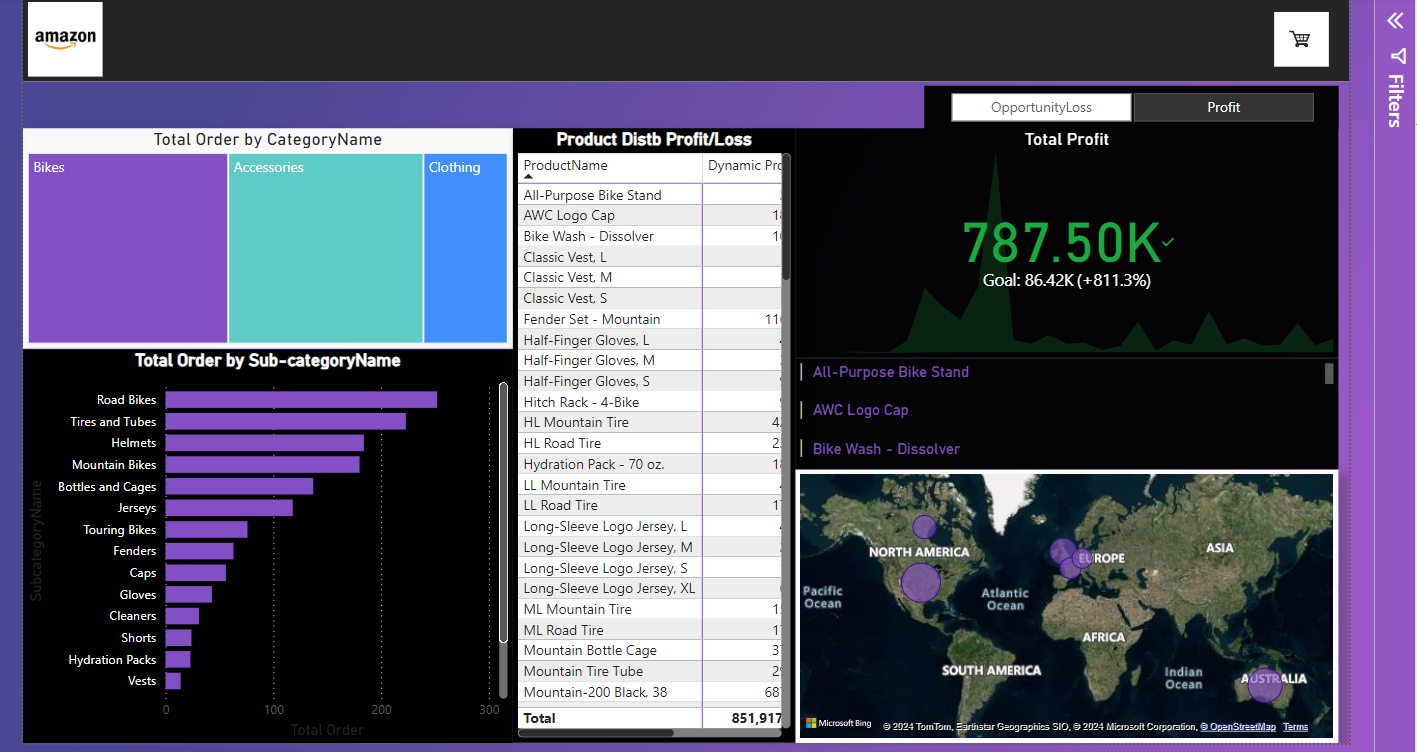

What the dashboard file says about the page in this screenshot:
{"tool":"powerbi","page":{"name":"Page 1","canvas":[1280,720],"ordinal":0},"visuals":[{"type":"shape","box":[0,0,1280,81.4],"z":0},{"type":"treemap","fields":{"Group":["Amazon_Product_Categories.CategoryName"],"Values":["AM_Sales.Total Order"]},"box":[0,127.1,472.9,212.9],"z":1000},{"type":"clusteredBarChart","title":"Total Order by Sub-categoryName","fields":{"Category":["Amazon_Product_Subcategories.SubcategoryName"],"Y":["AM_Sales.Total Order"]},"box":[0,340,472.9,380],"z":2000},{"type":"pivotTable","title":"Product Distb Profit/Loss","fields":{"Rows":["Amazon_Product_Categories.CategoryName","Amazon_Product_Subcategories.SubcategoryName","Amazon_Products.ProductName"],"Values":["AM_Sales.Dynamic Profit/Loss"]},"box":[472.9,127.1,272.9,592.9],"z":3000},{"type":"map","fields":{"Category":["Amazon_Territories.Country"],"Size":["AM_Sales.Total Order"]},"box":[745.7,455.7,524.3,264.3],"z":4000},{"type":"image","box":[0,0,81.4,81.4],"z":5000},{"type":"image","box":[1188.6,10,91.4,62.9],"z":6000},{"type":"slicer","title":"Profit/Loss-Slicer","fields":{"Values":["Profit_Loss Toggle.Values"]},"box":[870,85.7,400,41.4],"z":7000},{"type":"multiRowCard","fields":{"Values":["Amazon_Products.ProductName"]},"box":[745.7,348.6,524.3,107.1],"z":8000},{"type":"kpi","title":"Total Profit ","fields":{"Indicator":["AM_Sales.Total Profit"],"TrendLine":["Amazon_Calendar.Date"],"Goal":["AM_Sales.Prevoius Month Salses"]},"box":[745.7,127.1,524.3,221.4],"z":9000}]}

Visuals, with their boxes in screenshot pixels (x1, y1, x2, y2):
shape: 22 0 1342 77
treemap - Amazon_Product_Categories.CategoryName x AM_Sales.Total Order: 22 124 510 343
"Total Order by Sub-categoryName" clusteredBarChart: 22 343 510 735
"Product Distb Profit/Loss" pivotTable: 510 124 791 735
map - Amazon_Territories.Country x AM_Sales.Total Order: 791 462 1332 735
image: 22 0 106 77
image: 1248 3 1342 68
"Profit/Loss-Slicer" slicer: 919 81 1332 124
multiRowCard - Amazon_Products.ProductName: 791 352 1332 462
"Total Profit " kpi: 791 124 1332 352
